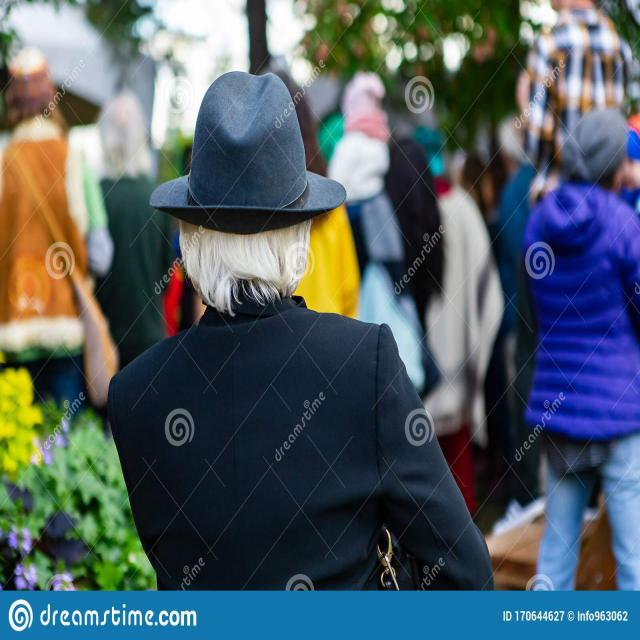hat: (151, 71, 348, 308)
